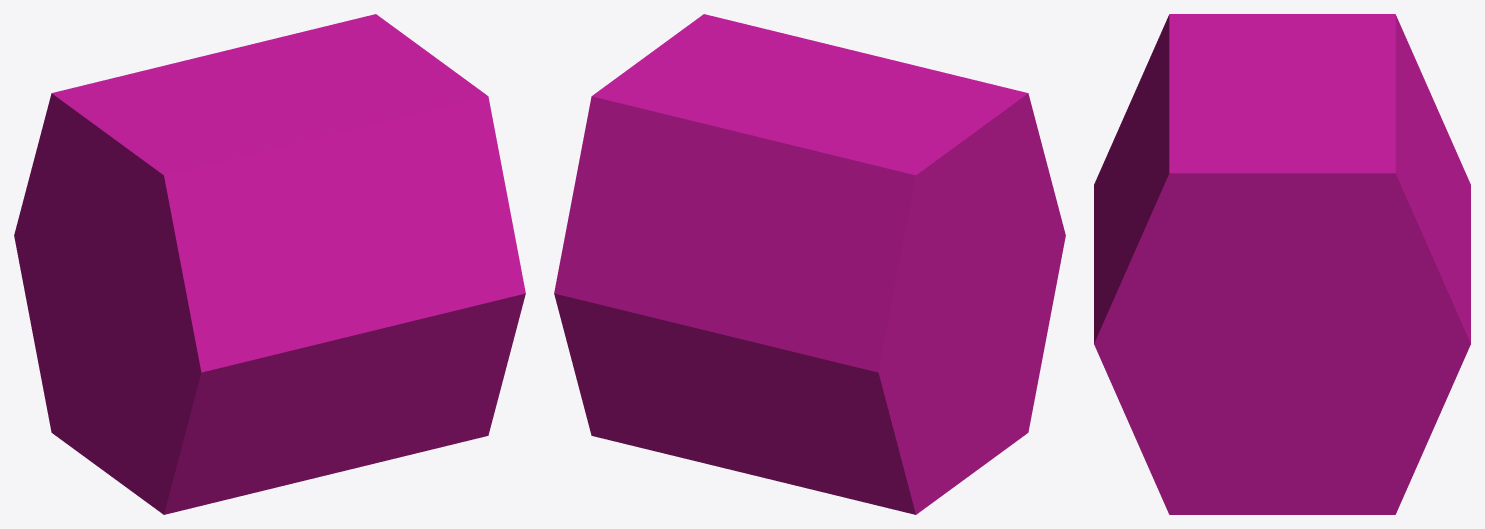
The model's file is segi enam.fbx.
3 renders of one model, left to right at view 1: azimuth 30°, elevation 25°; view 2: azimuth 150°, elevation 25°; view 3: azimuth 270°, elevation 25°, orthographic.
Parts seen in each view (by area): view 1: Cube; view 2: Cube; view 3: Cube.
Part boxes in pixels (x1,y1,x2,y2): Cube: (14,14,525,514); Cube: (554,14,1065,514); Cube: (1094,14,1470,514).
Bounding box in the file's own units: 200 × 200 × 200.
